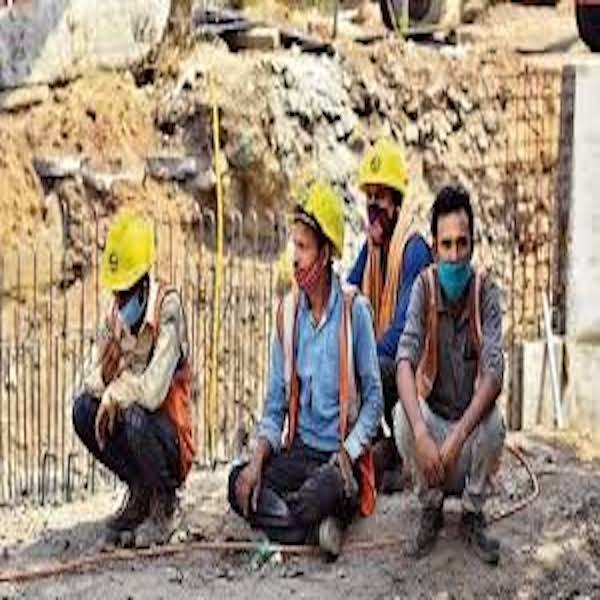helmet: (97, 205, 157, 288), (295, 182, 348, 243), (356, 141, 408, 192)
vest: (361, 228, 406, 326)
